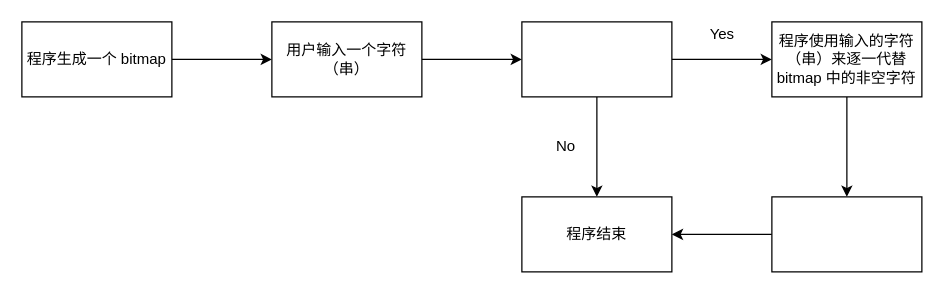
This 944x294 diagram has some shape labels left out. Here are the shapes that lost their labels. From the top down, the centre of each, then its label:
At (596,59): "程序检测输入的字符（串）是否合规".
At (846,234): "程序输出替换字符后的 bitmap".
